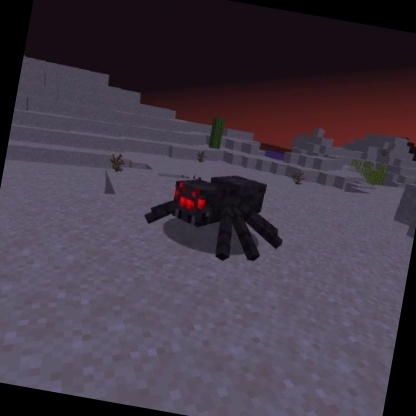spider: (136, 157, 296, 274)
